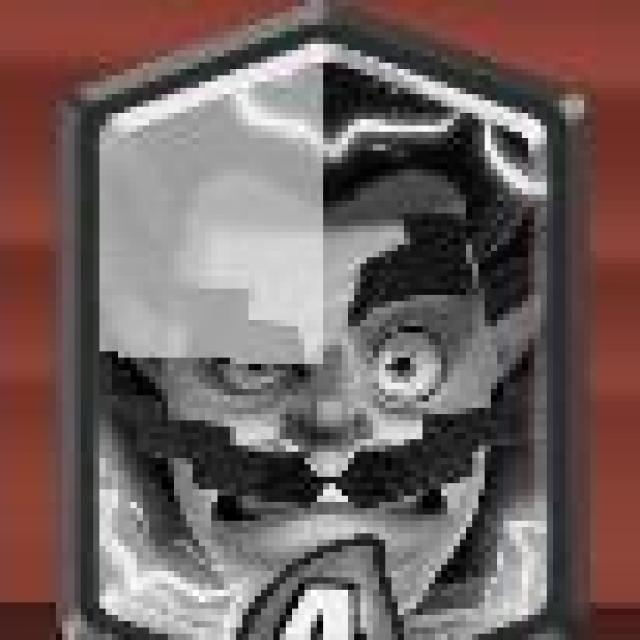Electro_Wizard: (71, 8, 567, 640)
